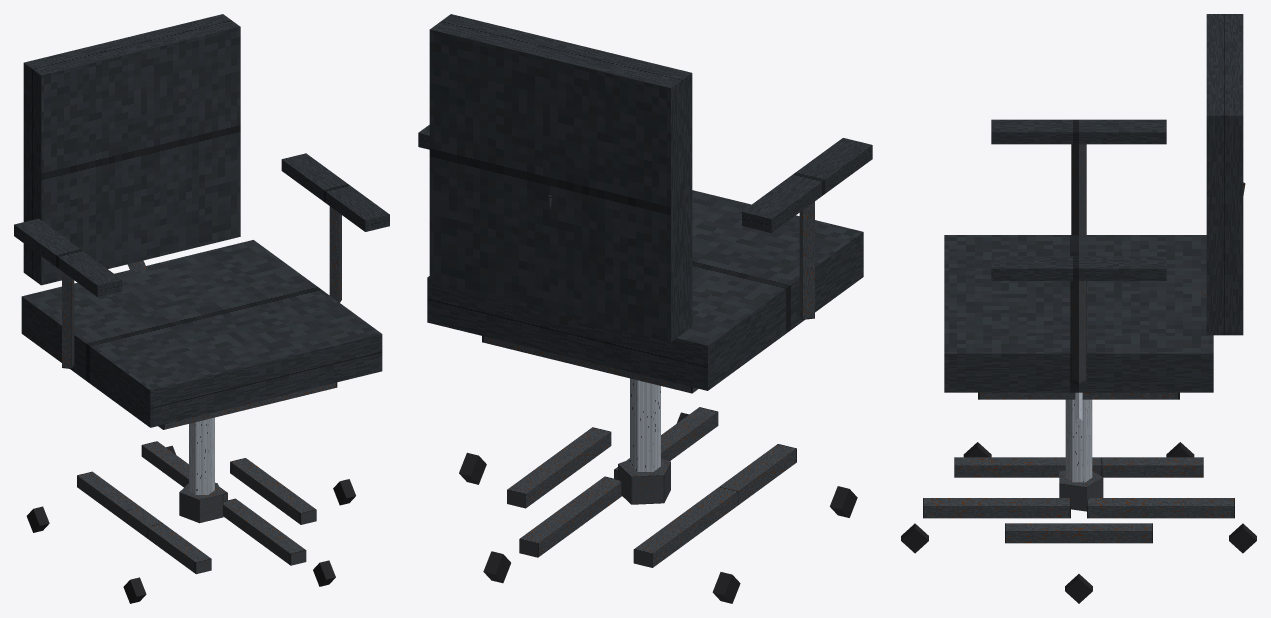
The model's file is office_chair_industrial_hazard.glb.
3 views of the same model, side by side, from view 1: azimuth 30°, elevation 25°; view 2: azimuth 150°, elevation 25°; view 3: azimuth 270°, elevation 25° (orthographic). The views are drawn at different scales.
Parts seen in each view (by area): view 1: office_chair_industrial_hazard; view 2: office_chair_industrial_hazard; view 3: office_chair_industrial_hazard.
Part boxes in pixels (x1=…): office_chair_industrial_hazard: x1=14, y1=14, x2=389, y2=603; office_chair_industrial_hazard: x1=418, y1=14, x2=872, y2=603; office_chair_industrial_hazard: x1=901, y1=14, x2=1256, y2=603.
Bounding box in the file's own units: 0.6651 × 0.95 × 0.6607.
Materials: 4 (4 with a texture image).
